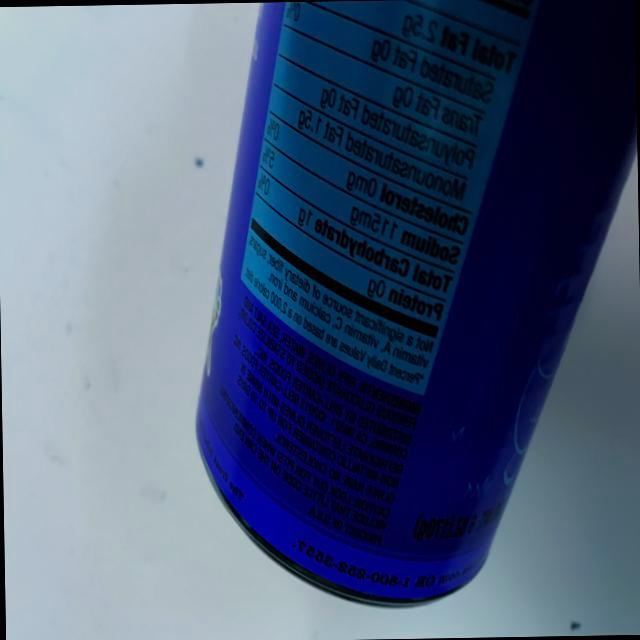metal: (176, 0, 640, 627)
